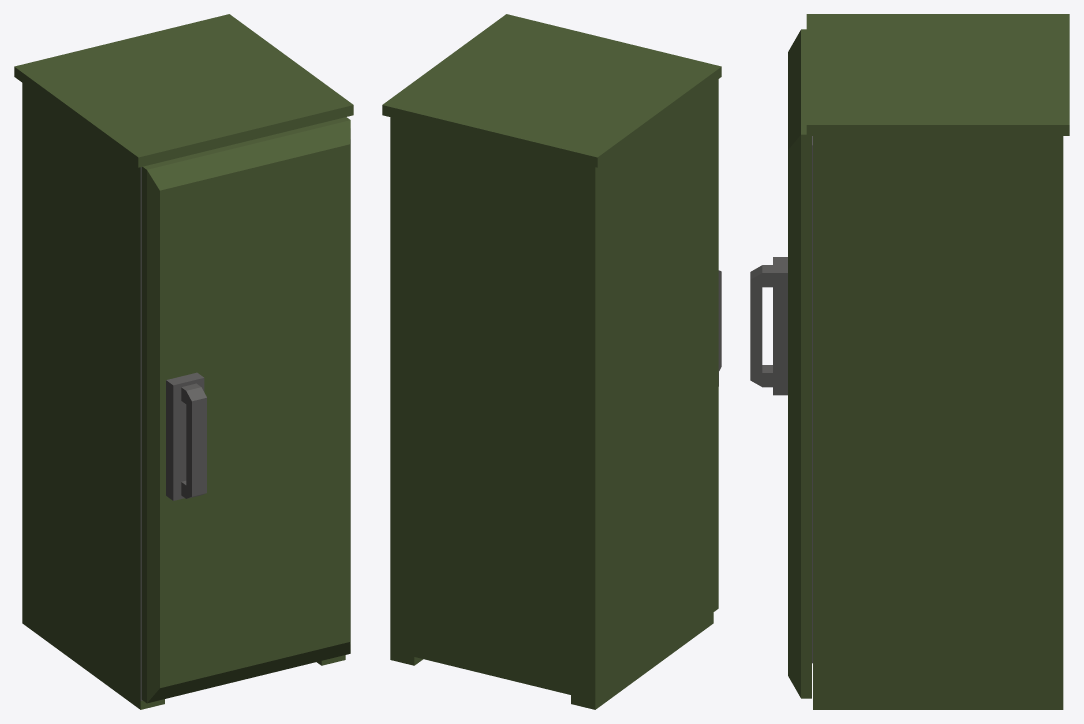
Rendered from freezerhight_01_B.gltf.
3 views of the same model, side by side, from view 1: azimuth 30°, elevation 25°; view 2: azimuth 150°, elevation 25°; view 3: azimuth 270°, elevation 25° (orthographic). The views are drawn at different scales.
Visible parts, largest first — view 1: Doorfreezer_01_B, freezerhight_01_B; view 2: freezerhight_01_B, Doorfreezer_01_B; view 3: freezerhight_01_B, Doorfreezer_01_B.
Boxes of the visible parts, x1,y1,x2,y2 form: Doorfreezer_01_B: (141,117,350,703); freezerhight_01_B: (14,14,353,709); freezerhight_01_B: (382,14,721,709); Doorfreezer_01_B: (713,79,721,611); freezerhight_01_B: (806,14,1069,709); Doorfreezer_01_B: (750,29,812,698).
Size of the model in its own units: 0.6297 by 1.55 by 0.7646.
Materials: 1 (1 with a texture image).
